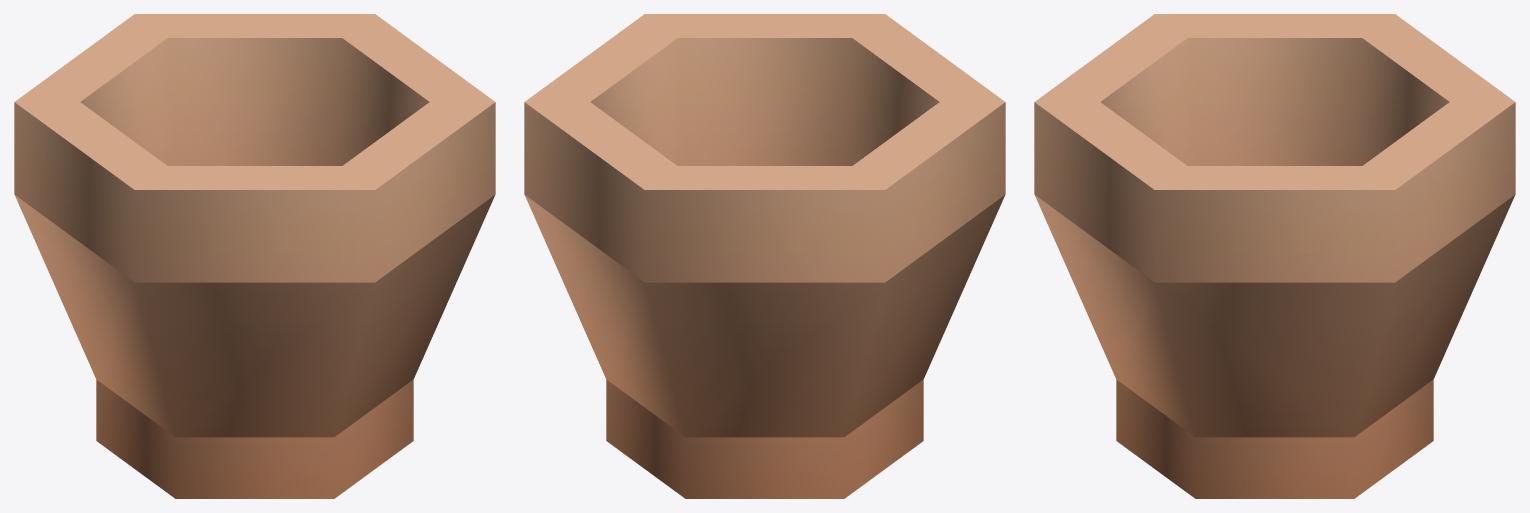
File: ice-cream-cup.glb
3 views of the same model, side by side, from view 1: azimuth 30°, elevation 25°; view 2: azimuth 150°, elevation 25°; view 3: azimuth 270°, elevation 25° (orthographic).
Parts seen in each view (by area): view 1: ice-cream-cup; view 2: ice-cream-cup; view 3: ice-cream-cup.
Boxes of the visible parts, left/top/right/bottom form: ice-cream-cup: left=14, top=14, right=495, bottom=498; ice-cream-cup: left=524, top=14, right=1005, bottom=498; ice-cream-cup: left=1034, top=14, right=1515, bottom=498.
Size of the model in its own units: 0.2011 by 0.1804 by 0.2322.
1 material, 1 textured.
